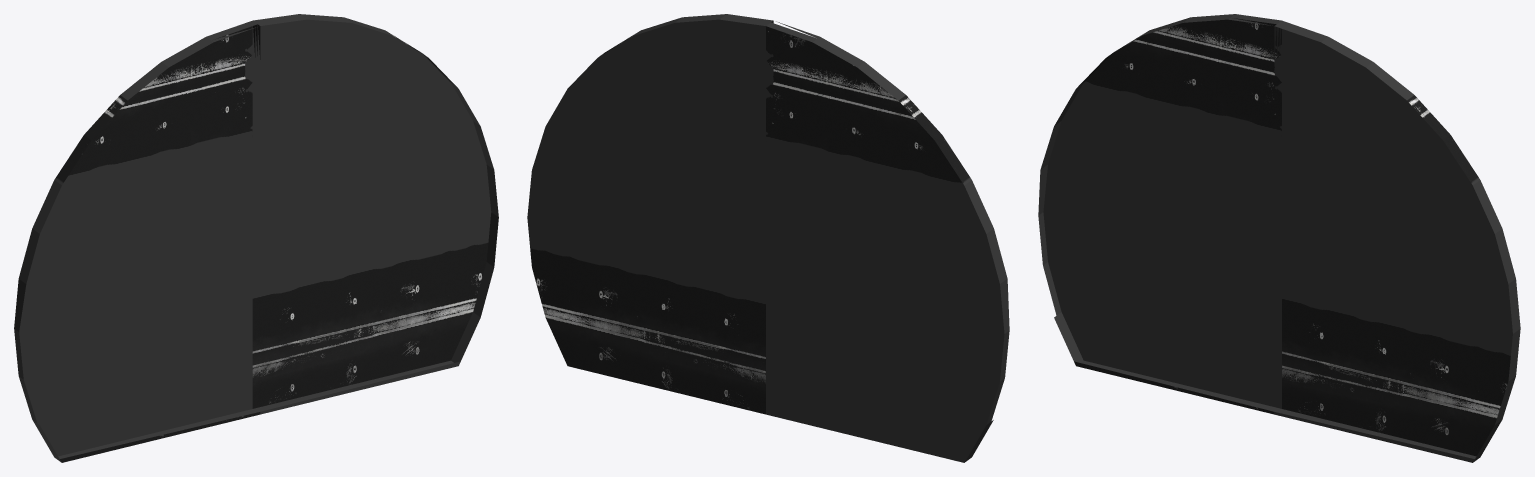
Rendered from innerPortal.obj.
3 views of the same model, side by side, from view 1: azimuth 30°, elevation 25°; view 2: azimuth 150°, elevation 25°; view 3: azimuth 330°, elevation 25° (orthographic).
Visible parts, largest first — view 1: Door_Right_Untitled.003, Door__Left_Untitled.001; view 2: Door__Left_Untitled.001, Door_Right_Untitled.003; view 3: Door__Left_Untitled.001, Door_Right_Untitled.003.
Boxes of the visible parts, bbox=[...] form: Door_Right_Untitled.003: bbox=[252, 14, 498, 414]; Door__Left_Untitled.001: bbox=[14, 20, 260, 462]; Door__Left_Untitled.001: bbox=[766, 21, 1009, 462]; Door_Right_Untitled.003: bbox=[527, 14, 773, 414]; Door__Left_Untitled.001: bbox=[1038, 14, 1281, 414]; Door_Right_Untitled.003: bbox=[1274, 20, 1520, 462].
Size of the model in its own units: 1.82 by 1.41 by 0.0505.
1 material, 1 textured.
